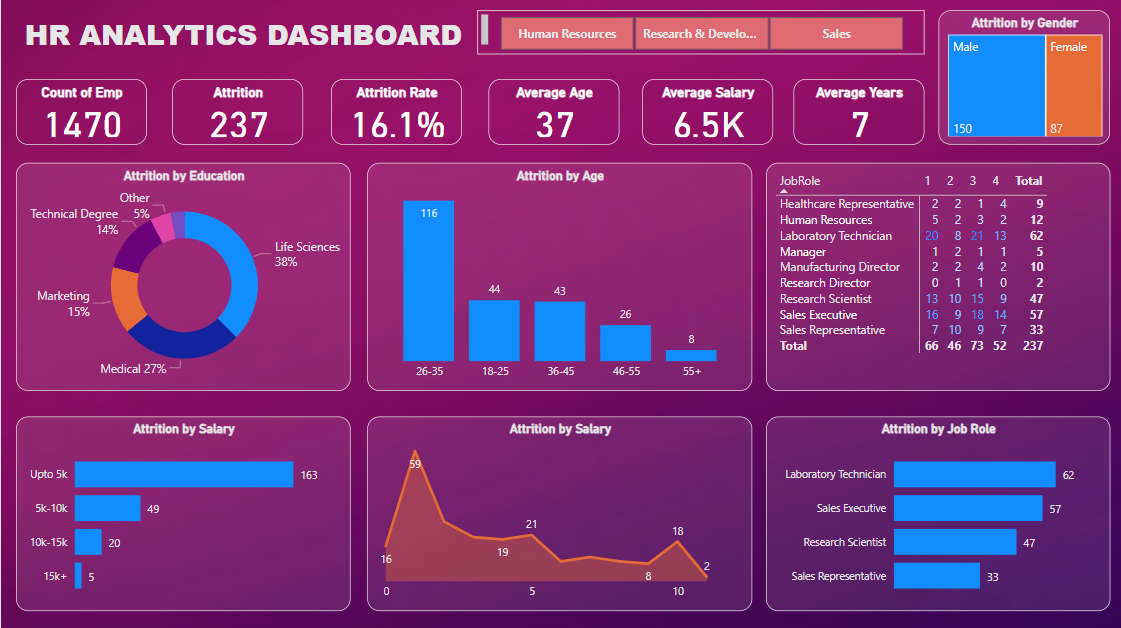

The dashboard page shown, as its layout file describes it:
{"tool":"powerbi","page":{"name":"Page 1","canvas":[1280,720],"ordinal":0},"visuals":[{"type":"card","title":"Count of Emp","fields":{"Values":["CountNonNull(HR_Analytics.EmpID)"]},"box":[17.8,90.8,149.4,75.4],"z":0},{"type":"card","title":"Attrition","fields":{"Values":["Sum(HR_Analytics.AttritionCount)"]},"box":[195.8,90.8,149.4,75.4],"z":1000},{"type":"card","title":"Attrition Rate","fields":{"Values":["HR_Analytics.AttritionRate"]},"box":[376.8,90.8,149.4,75.4],"z":2000},{"type":"card","title":"Average Age","fields":{"Values":["Avg(HR_Analytics.Age)"]},"box":[556.6,90.8,149.4,75.4],"z":3000},{"type":"card","title":"Average Years","fields":{"Values":["Avg(HR_Analytics.YearsAtCompany)"]},"box":[906.3,90.8,149.4,75.4],"z":4000},{"type":"card","title":"Average Salary","fields":{"Values":["Avg(HR_Analytics.MonthlyIncome)"]},"box":[733.5,90.8,149.4,75.4],"z":5000},{"type":"donutChart","title":"Attrition by Education","fields":{"Y":["Sum(HR_Analytics.AttritionCount)"],"Category":["HR_Analytics.EducationField"]},"box":[17.8,186.5,382.5,260.5],"z":6000},{"type":"columnChart","title":"Attrition by Age","fields":{"Category":["HR_Analytics.AgeGroup"],"Y":["Sum(HR_Analytics.AttritionCount)"]},"box":[418.2,186.5,440.1,260.5],"z":7000},{"type":"pivotTable","fields":{"Rows":["HR_Analytics.JobRole"],"Columns":["HR_Analytics.JobSatisfaction"],"Values":["Sum(HR_Analytics.AttritionCount)"]},"box":[874.7,186.5,393.5,260.5],"z":8000},{"type":"barChart","title":"Attrition by Salary","fields":{"Category":["HR_Analytics.SalarySlab"],"Y":["Sum(HR_Analytics.AttritionCount)"]},"box":[17.8,477.1,382.5,222.1],"z":9000},{"type":"barChart","title":"Attrition by Job Role","fields":{"Category":["HR_Analytics.JobRole"],"Y":["Sum(HR_Analytics.AttritionCount)"]},"box":[874.7,477.1,393.5,222.1],"z":10000},{"type":"areaChart","title":"Attrition by Salary","fields":{"Category":["HR_Analytics.YearsAtCompany"],"Y":["Sum(HR_Analytics.AttritionCount)"]},"box":[418.2,477.1,440.1,222.1],"z":11000},{"type":"slicer","fields":{"Values":["HR_Analytics.Department"]},"box":[544.3,12.3,511.4,50.7],"z":12000},{"type":"textbox","box":[0,12.3,562.1,49.4],"z":13000},{"type":"treemap","title":"Attrition by Gender","fields":{"Group":["HR_Analytics.Gender"],"Values":["Sum(HR_Analytics.AttritionCount)"]},"box":[1070.8,12.3,196.1,153.6],"z":14000}]}

Visuals, with their boxes in screenshot pixels (x1, y1, x2, y2), scaled from the page's 1280x720 canvas onto the 1121x628 screenshot:
"Count of Emp" card: x1=16, y1=79, x2=146, y2=145
"Attrition" card: x1=171, y1=79, x2=302, y2=145
"Attrition Rate" card: x1=330, y1=79, x2=461, y2=145
"Average Age" card: x1=487, y1=79, x2=618, y2=145
"Average Years" card: x1=794, y1=79, x2=925, y2=145
"Average Salary" card: x1=642, y1=79, x2=773, y2=145
"Attrition by Education" donutChart: x1=16, y1=163, x2=351, y2=390
"Attrition by Age" columnChart: x1=366, y1=163, x2=752, y2=390
pivotTable - HR_Analytics.JobRole x HR_Analytics.JobSatisfaction: x1=766, y1=163, x2=1111, y2=390
"Attrition by Salary" barChart: x1=16, y1=416, x2=351, y2=610
"Attrition by Job Role" barChart: x1=766, y1=416, x2=1111, y2=610
"Attrition by Salary" areaChart: x1=366, y1=416, x2=752, y2=610
slicer - HR_Analytics.Department: x1=477, y1=11, x2=925, y2=55
textbox: x1=0, y1=11, x2=492, y2=54
"Attrition by Gender" treemap: x1=938, y1=11, x2=1110, y2=145
